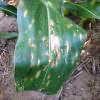Corn leaf blight: (13, 0, 81, 99)
